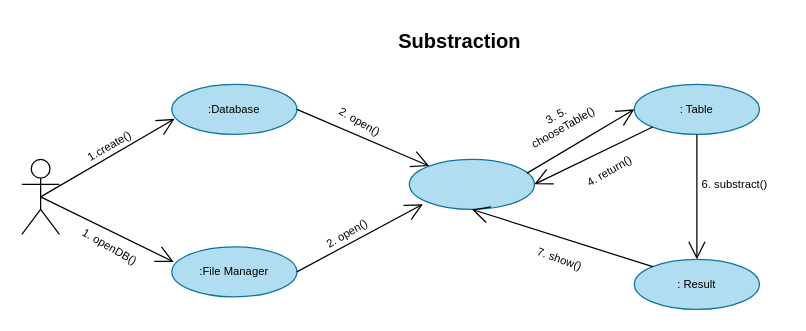
This 806x331 diagram has some shape labels left out. The centre of each missing label's shape, as x and y in pixels:
": main Form" belongs at pixel 471 183.
"User" belongs at pixel 40 196.
